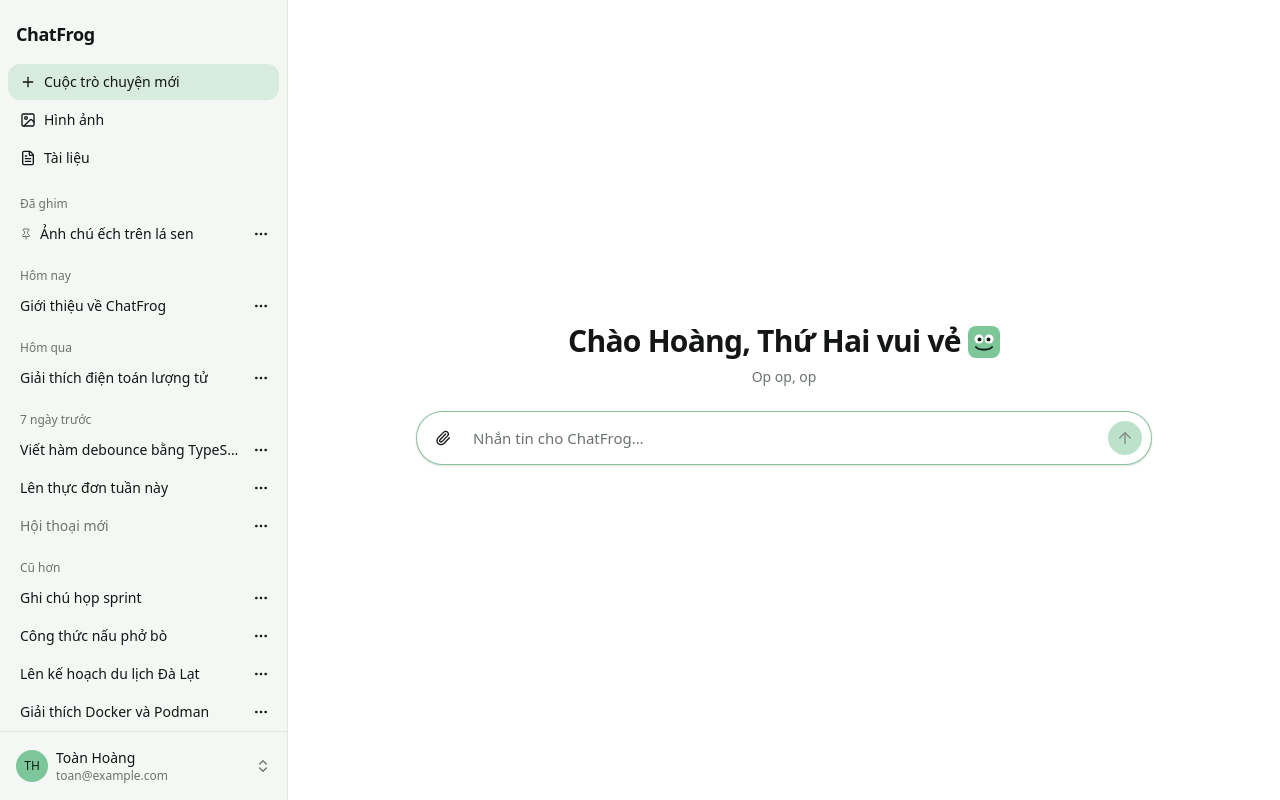
it: settings modal: admin sections › hides the admin sections from non-admins
What coordinates should you click on to do the following:
click the button with aria-label "Menu người dùng"
I would click on:
 (144, 766)
Its box is [8, 740, 279, 792].
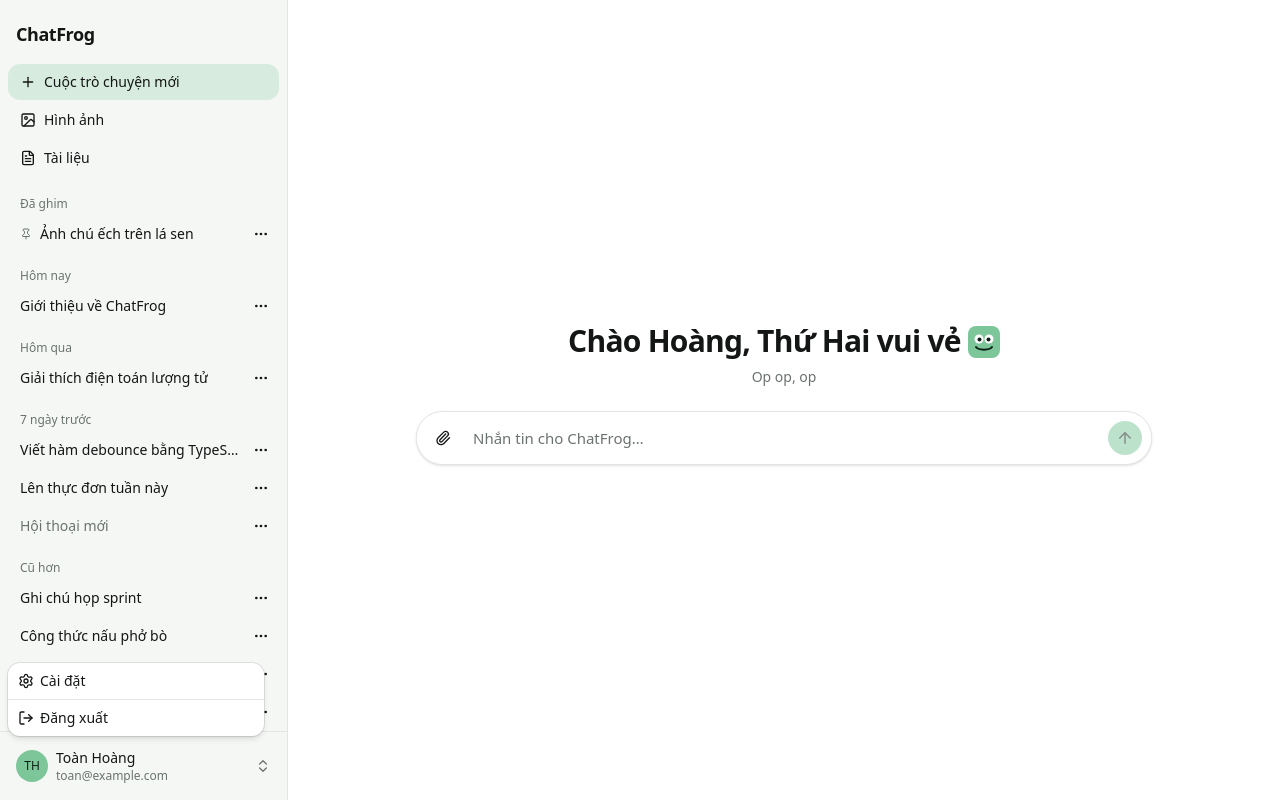
What coordinates should you click on to do the following:
click the menu item "Cài đặt"
I would click on:
 (52, 680)
Its box is [18, 671, 86, 690].
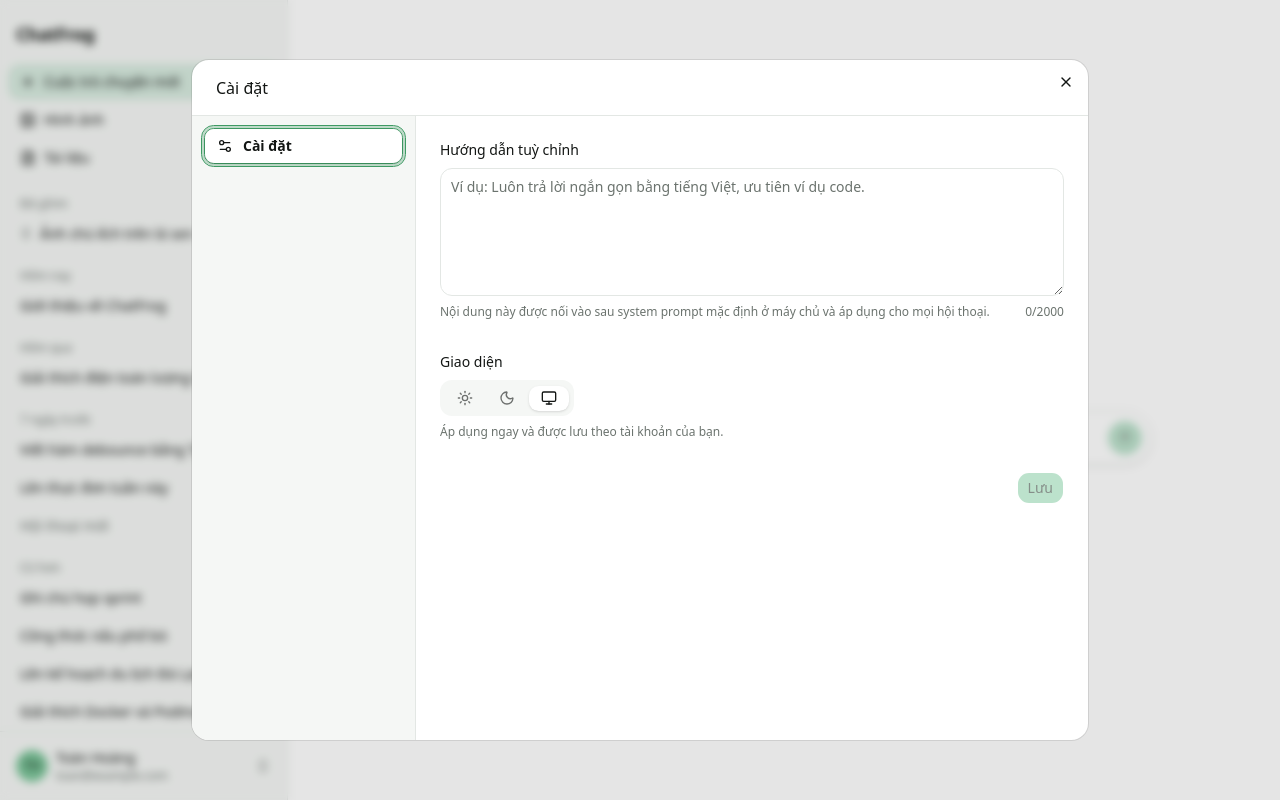
Check: the text box labelled "Hướng dẫn tuỳ chỉnh" is shown, box [440, 168, 1064, 296]
